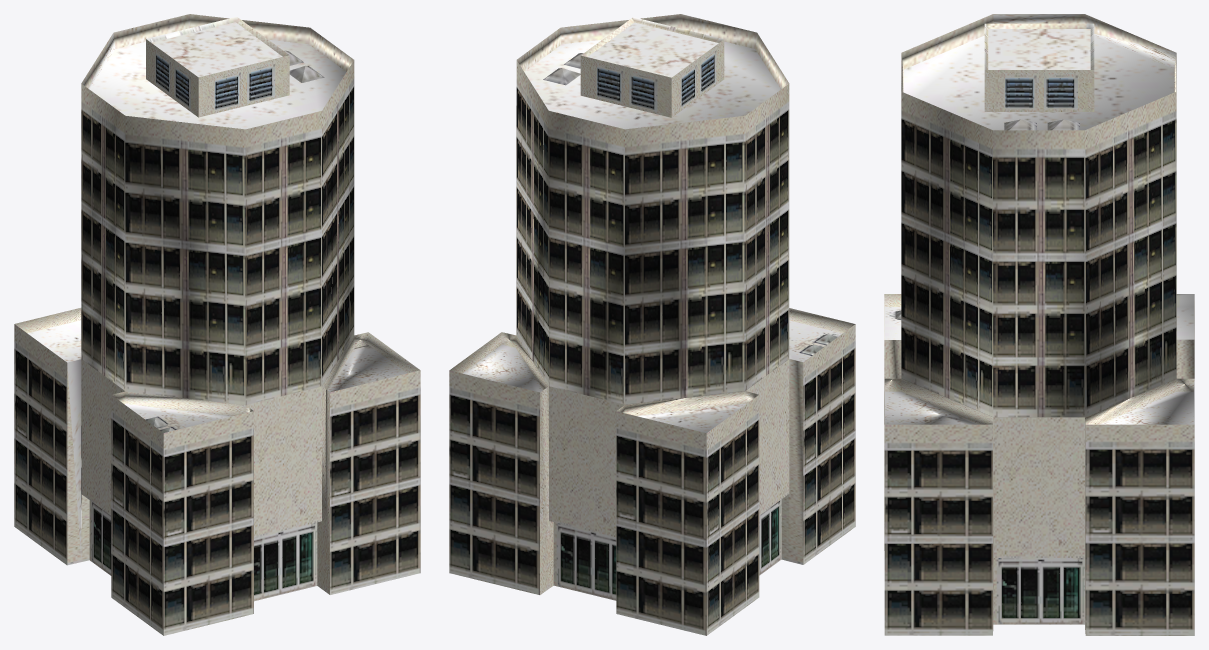
File: Civilian - Civilian Building - SSCRAP 01 - CBSSCRAP01.glb
3 views of the same model, side by side, from view 1: azimuth 30°, elevation 25°; view 2: azimuth 150°, elevation 25°; view 3: azimuth 270°, elevation 25° (orthographic). The views are drawn at different scales.
Visible parts, largest first — view 1: CBSSCRAP01; view 2: CBSSCRAP01; view 3: CBSSCRAP01.
Boxes of the visible parts, box(x1,y1,x2,y2) form: CBSSCRAP01: box(14, 14, 420, 635); CBSSCRAP01: box(449, 14, 855, 635); CBSSCRAP01: box(884, 14, 1194, 635).
Bounding box in the file's own units: 50.46 × 94.19 × 50.63.
Materials: 1 (1 with a texture image).
